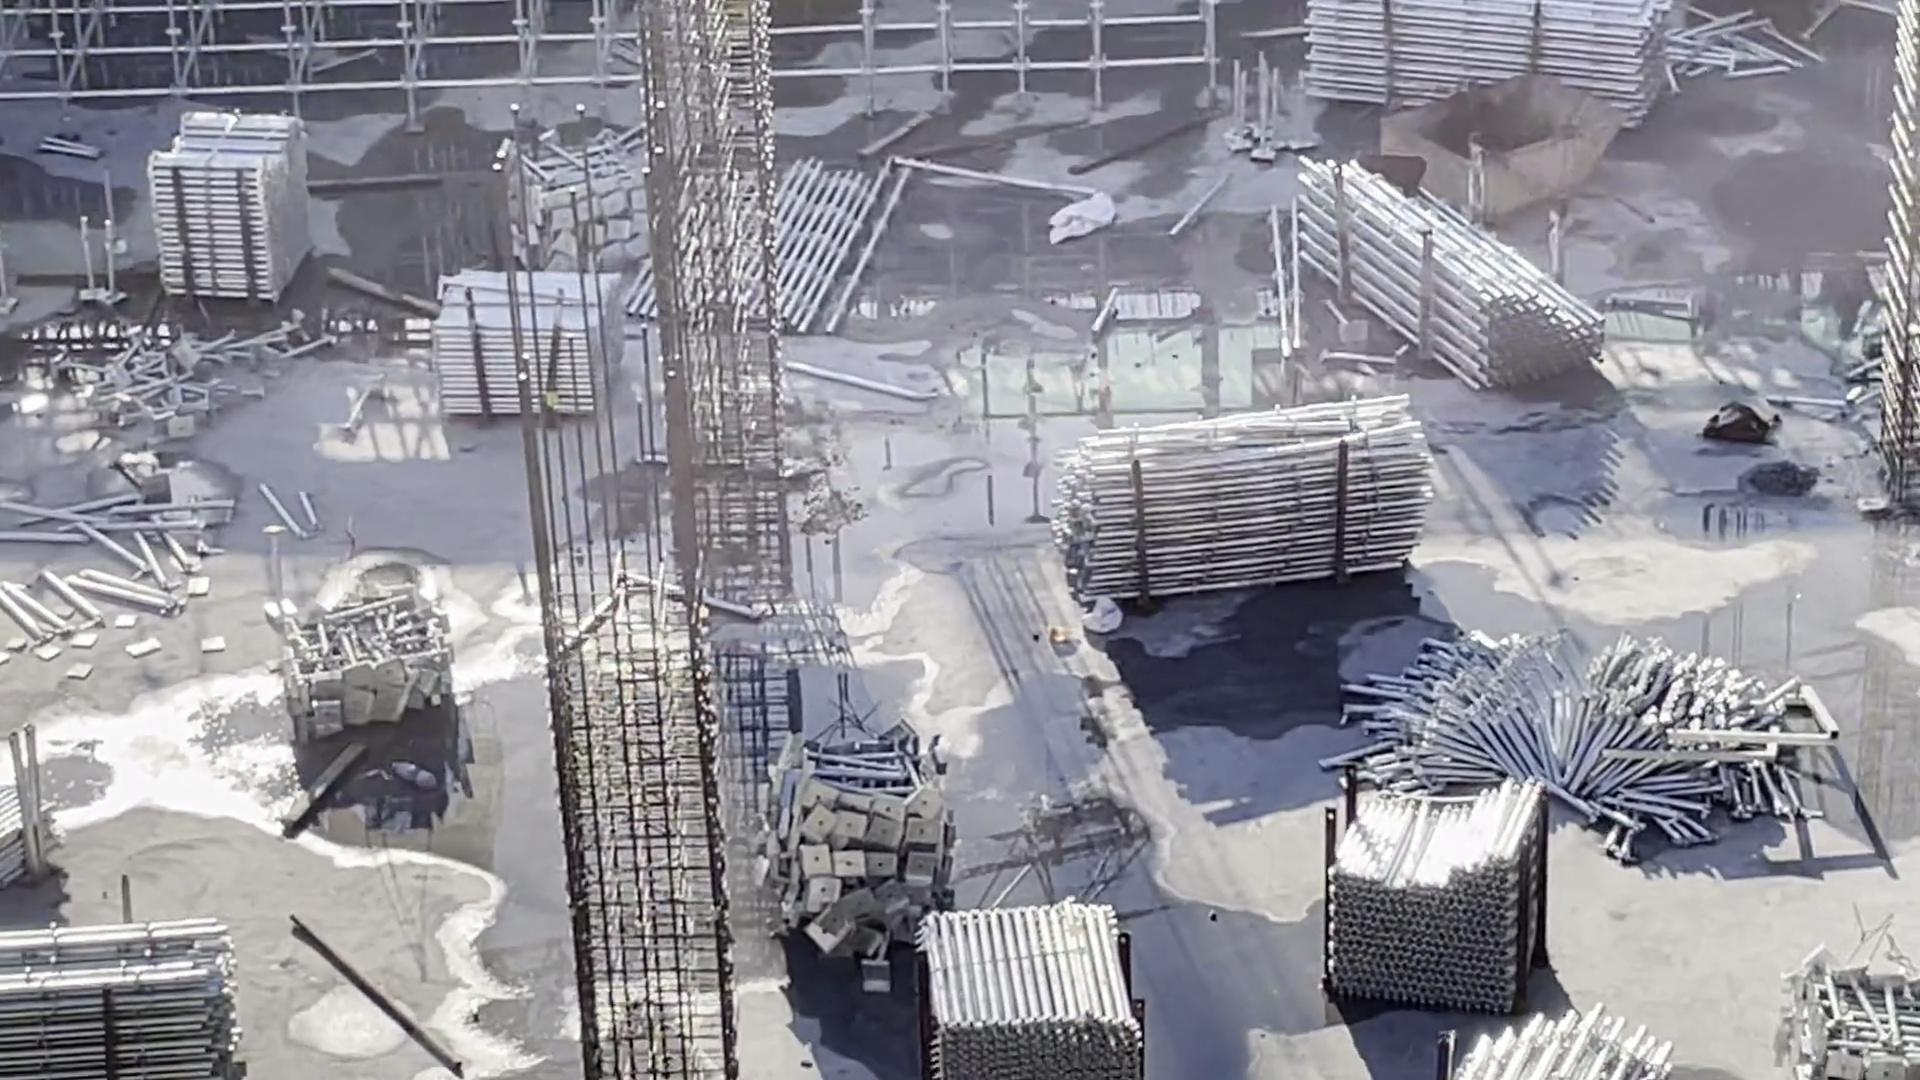hopper: (1386, 71, 1636, 224)
scaffold: (1358, 637, 1815, 851), (1300, 150, 1588, 385), (1044, 415, 1423, 588), (1313, 1, 1680, 146), (1324, 785, 1538, 990), (919, 905, 1168, 1080), (764, 738, 957, 960), (3, 909, 248, 1080), (150, 117, 307, 303), (434, 268, 621, 407), (269, 587, 458, 724), (512, 146, 673, 280), (1782, 953, 1917, 1080), (1448, 1015, 1677, 1080)
